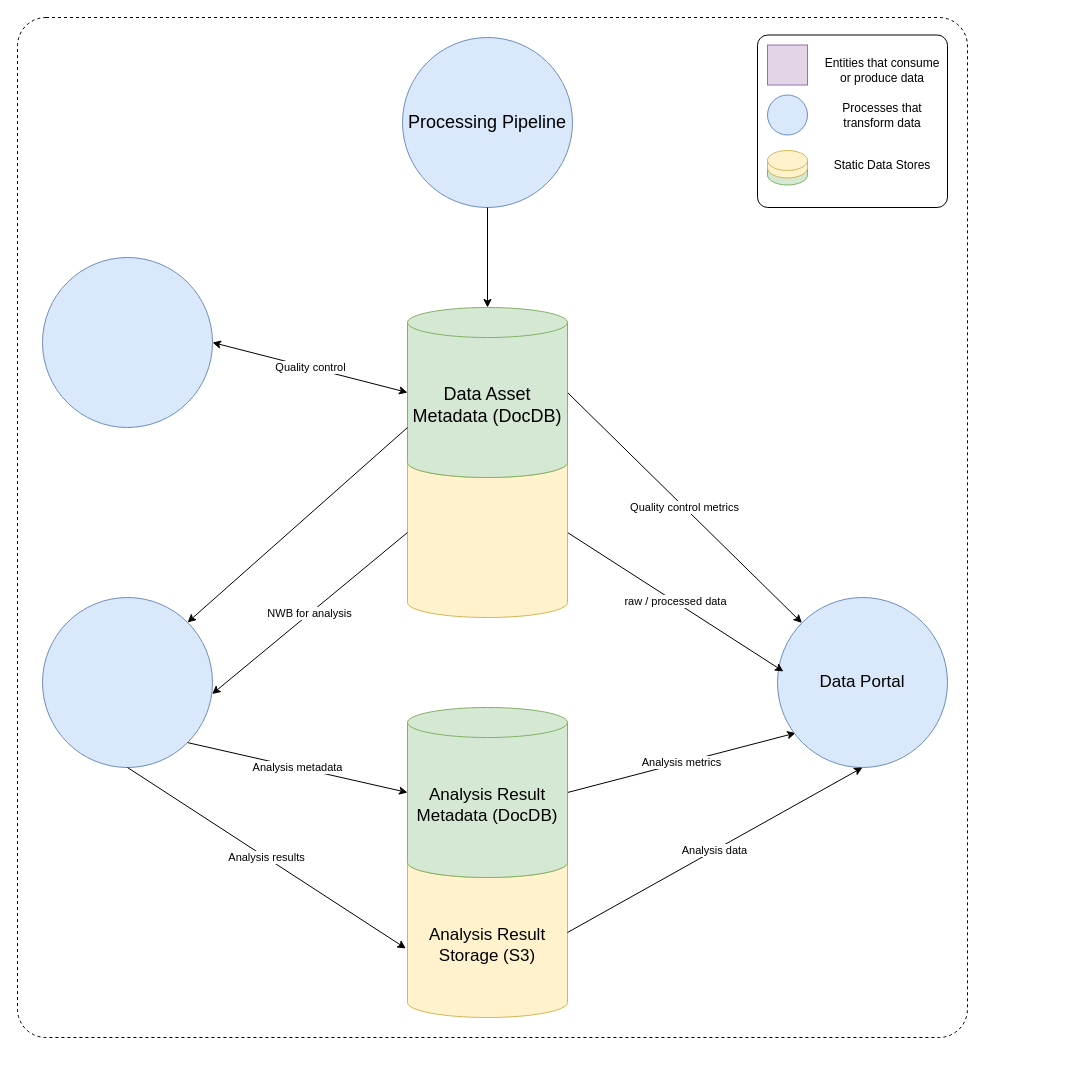
This 1075x1075 diagram has some shape labels left out. The centre of each missing label's shape, as x and y in pixels:
Analysis Pipeline: pixel 127 682
Data Asset Storage (S3): pixel 487 532
QC portal: pixel 127 342
